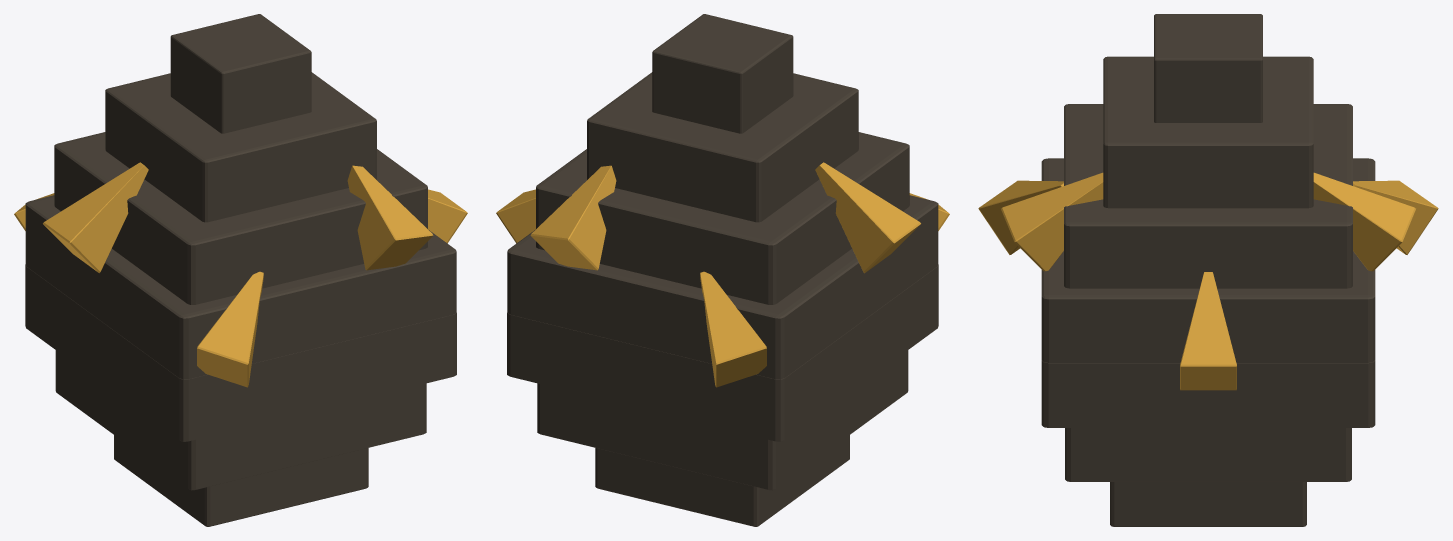
Rendered from egg-titan.glb.
The picture shows the model from 3 angles, left to right: view 1: azimuth 30°, elevation 25°; view 2: azimuth 150°, elevation 25°; view 3: azimuth 270°, elevation 25°; orthographic projection. The views are drawn at different scales.
Parts seen in each view (by area): view 1: body; view 2: body; view 3: body.
Part boxes in pixels (x1,y1,x2,y2): body: (14, 14, 467, 526); body: (496, 14, 949, 526); body: (978, 14, 1438, 526).
Bounding box in the file's own units: 0.9676 × 1 × 0.9269.
